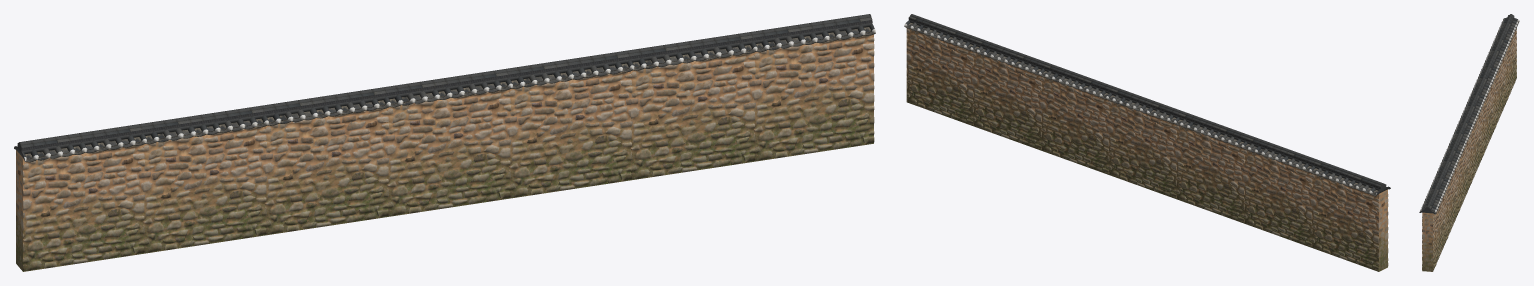
Rendered from SM_Stonewall03A_Splines_2.fbx.
3 views of the same model, side by side, from view 1: azimuth 30°, elevation 25°; view 2: azimuth 150°, elevation 25°; view 3: azimuth 270°, elevation 25° (orthographic). The views are drawn at different scales.
Visible parts, largest first — view 1: SM_Stonewall03A_Splines_2; view 2: SM_Stonewall03A_Splines_2; view 3: SM_Stonewall03A_Splines_2.
Part boxes in pixels (x1,y1,x2,y2): SM_Stonewall03A_Splines_2: [14, 14, 875, 271]; SM_Stonewall03A_Splines_2: [904, 14, 1390, 271]; SM_Stonewall03A_Splines_2: [1419, 14, 1519, 271].
Bounding box in the file's own units: 2136 × 466 × 330.
